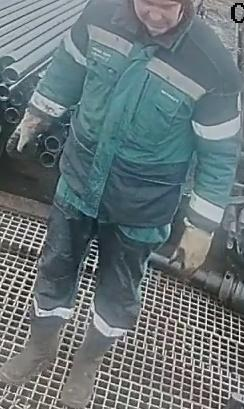gloves: (165, 216, 214, 282), (4, 106, 54, 164)
vest: (49, 0, 223, 227)
